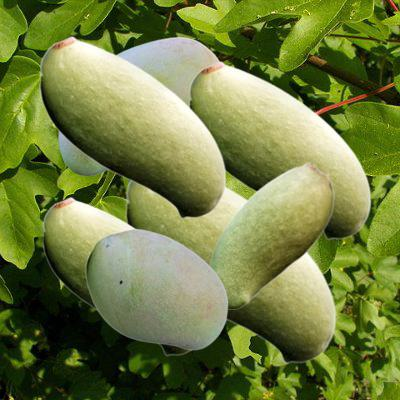green_mango: (125, 181, 335, 363), (39, 35, 225, 218), (188, 60, 370, 239), (42, 196, 192, 355), (58, 37, 219, 174), (208, 162, 333, 308), (85, 228, 227, 349)
